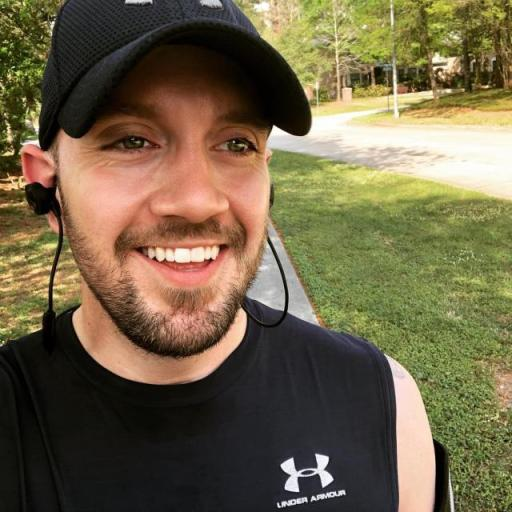Under Armour: (273, 450, 348, 508)
